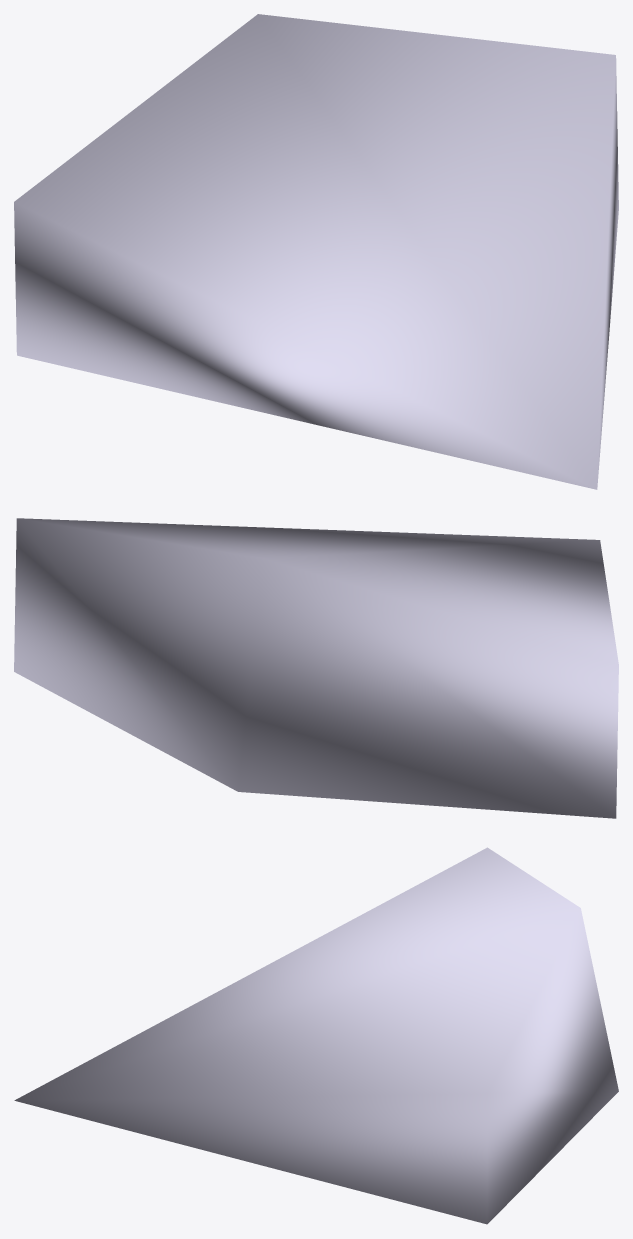
The model's file is bear_tooth.glb.
3 renders of one model, top to bottom at view 1: azimuth 30°, elevation 25°; view 2: azimuth 150°, elevation 25°; view 3: azimuth 270°, elevation 25°, orthographic. The views are drawn at different scales.
Visible parts, largest first — view 1: bear_tooth; view 2: bear_tooth; view 3: bear_tooth.
Part boxes in pixels (x1,y1,x2,y2): bear_tooth: [14, 14, 618, 489]; bear_tooth: [14, 518, 618, 818]; bear_tooth: [14, 847, 618, 1224].
Size of the model in its own units: 0.1212 by 0.0438 by 0.1251.
